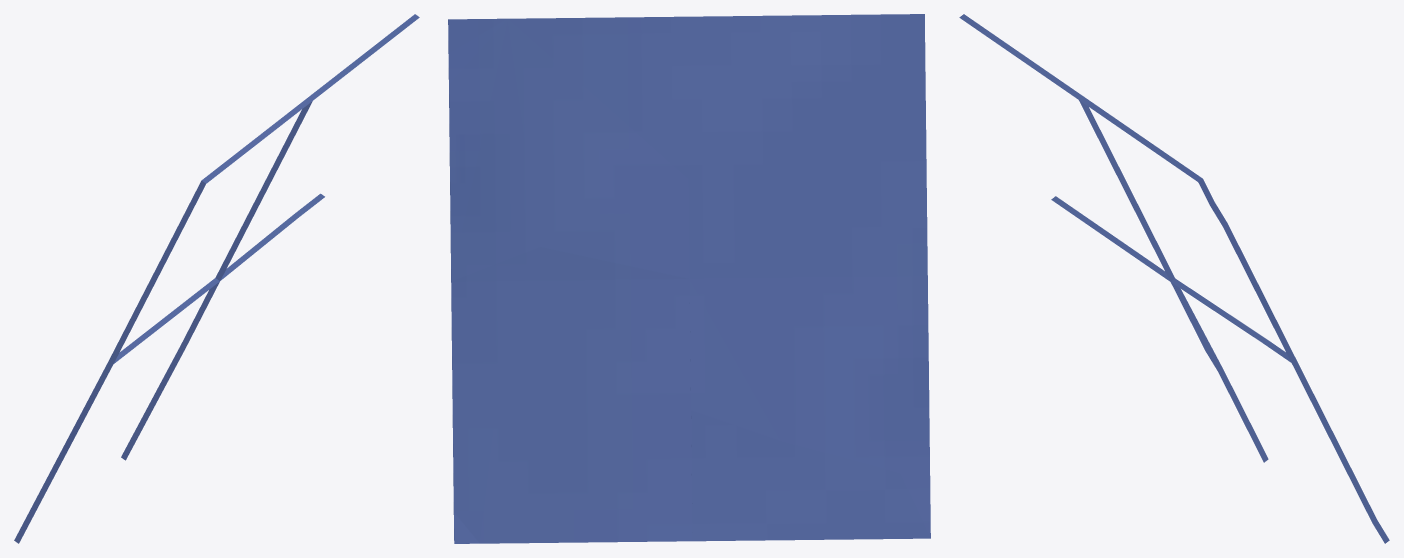
The picture shows the model from 3 angles, left to right: view 1: azimuth 30°, elevation 25°; view 2: azimuth 150°, elevation 25°; view 3: azimuth 270°, elevation 25°; orthographic projection. The views are drawn at different scales.
Bounding box in the file's own units: 4908 × 4423 × 4175.
Materials: 1 (1 with a texture image).
